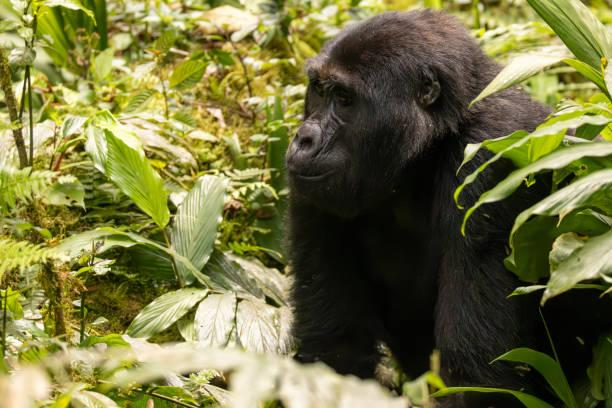goriile_montagne: (266, 3, 588, 406)
